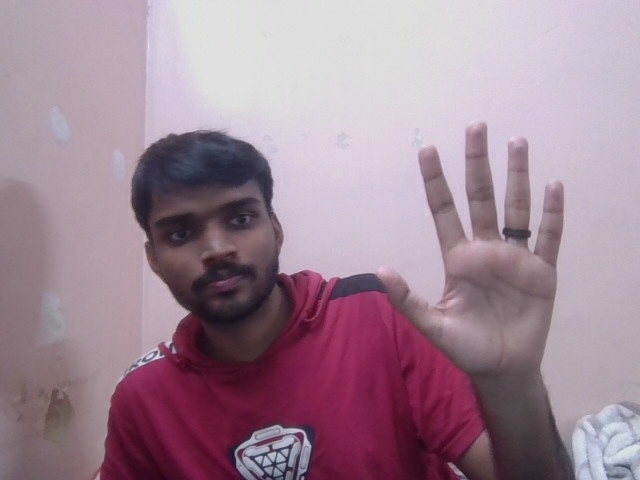Hello: (372, 119, 587, 380)
